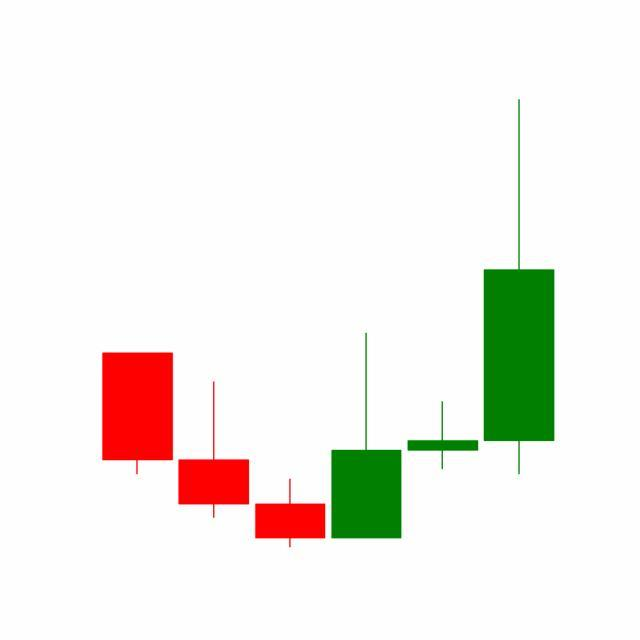Spinning Top: (404, 401, 482, 471)
